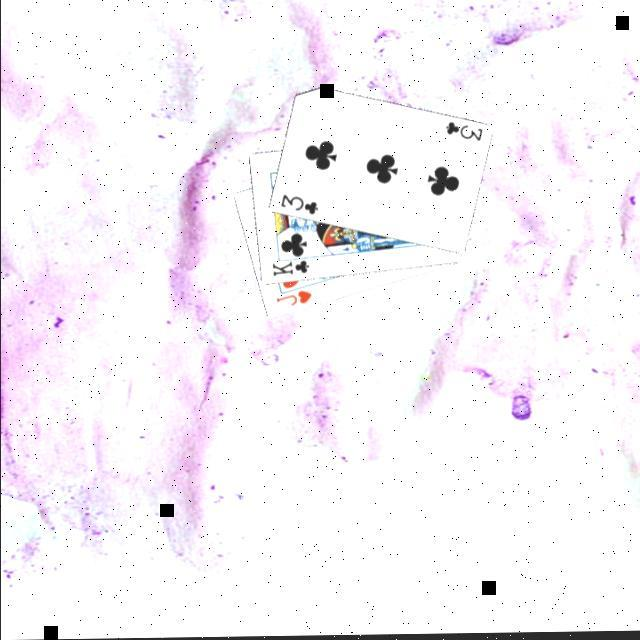3C: (442, 118, 487, 146), (278, 191, 322, 218)
JH: (274, 287, 316, 309)
KC: (270, 253, 316, 280)
